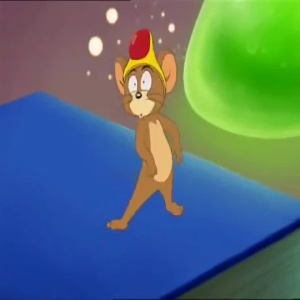Jerry: (107, 32, 181, 121)
